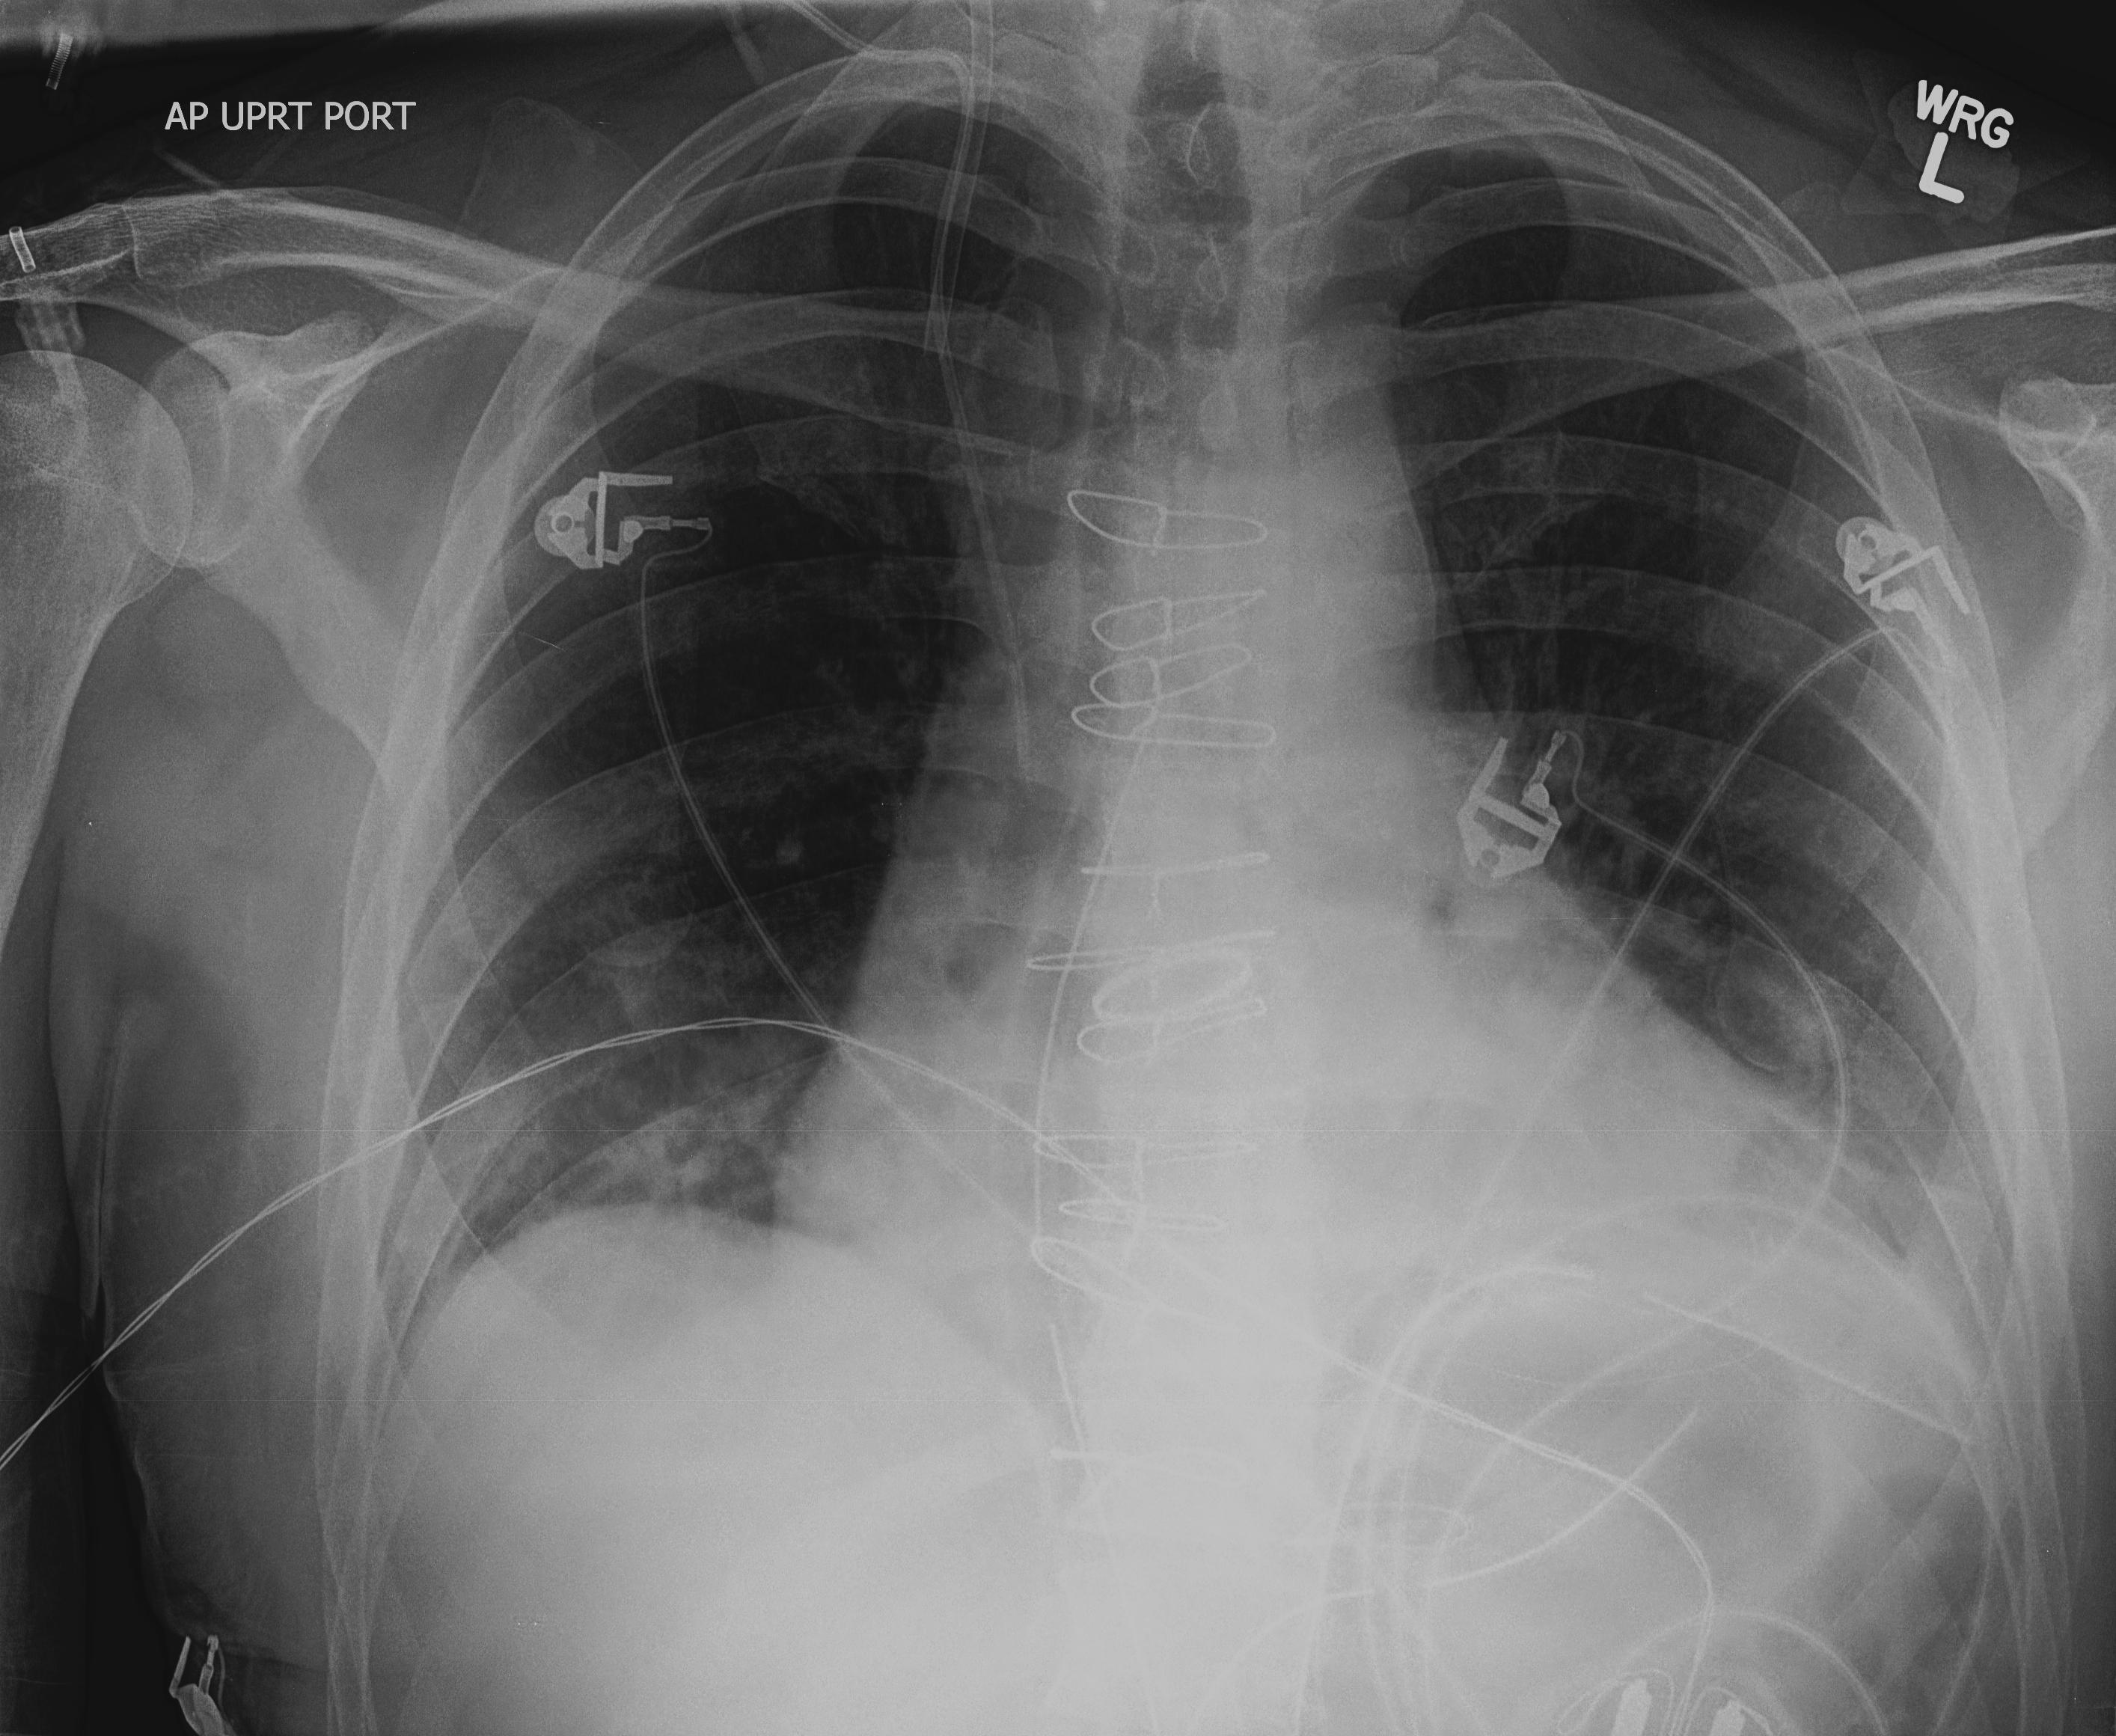Pleural Effusion: (1675, 1137, 2093, 1592)
